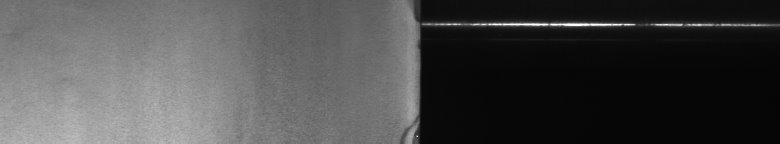hb: (397, 116, 408, 136)
